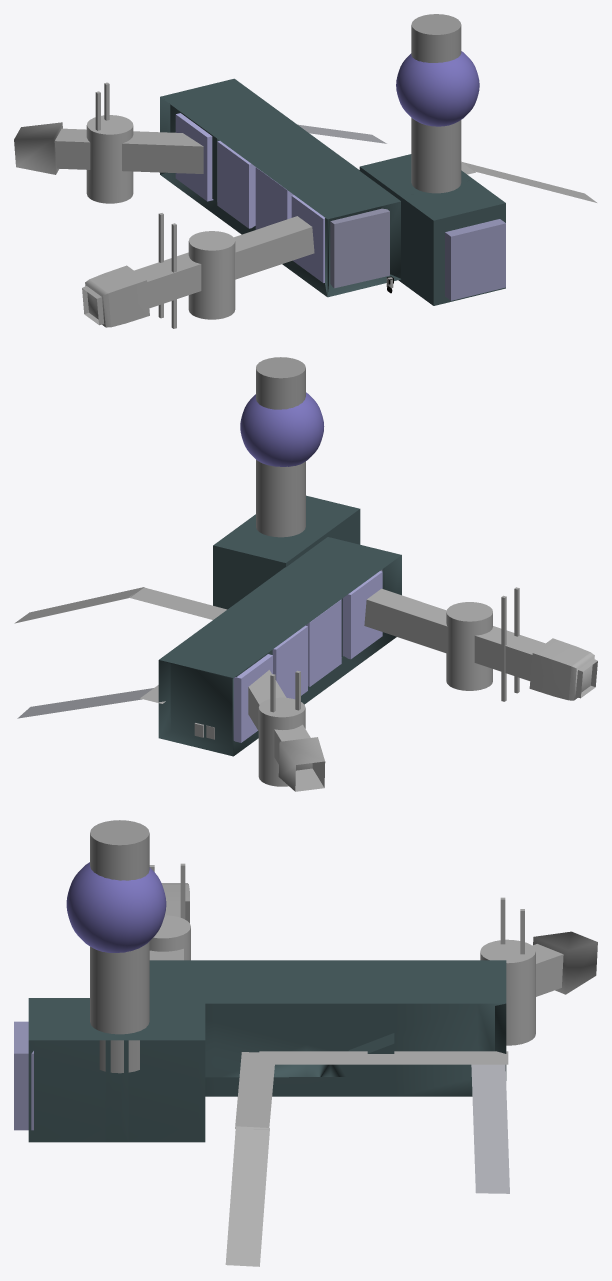
File: airport-terminal.obj
3 views of the same model, one above another, from view 1: azimuth 30°, elevation 25°; view 2: azimuth 150°, elevation 25°; view 3: azimuth 270°, elevation 25° (orthographic). The views are drawn at different scales.
Visible parts, largest first — view 1: Box, Box3, Box12, Box2, Cylinder2, Sphere, Box16, Box15, Cylinder1, Cylinder, Box8, Box1 (+6 smaller); view 2: Box, Box3, Cylinder2, Box1, Sphere, Box2, Cylinder1, Cylinder, Box9, Box11, Box12, Box8 (+5 smaller); view 3: Box, Box1, Box12, Cylinder2, Sphere, Plane2, Plane3, Cylinder, Box2, Plane, Plane1, Box16 (+2 smaller).
Boxes of the visible parts, x1,y1,x2,y2 form: Box: (160, 78, 400, 297); Box3: (82, 216, 314, 327); Box12: (393, 179, 505, 305); Box2: (14, 122, 203, 174); Cylinder2: (411, 14, 461, 193); Sphere: (396, 51, 479, 126); Box16: (445, 219, 505, 300); Box15: (330, 208, 389, 288); Cylinder1: (188, 231, 235, 319); Cylinder: (86, 115, 133, 203); Box8: (217, 141, 255, 228); Box1: (359, 154, 473, 281); Box: (158, 537, 401, 756); Box3: (364, 588, 597, 700); Cylinder2: (256, 357, 305, 537); Box1: (213, 514, 327, 609); Sphere: (240, 392, 324, 466); Box2: (248, 670, 325, 791); Cylinder1: (446, 602, 492, 690); Cylinder: (258, 697, 305, 786); Box9: (306, 599, 341, 686); Box11: (342, 571, 382, 659); Box12: (255, 495, 360, 544); Box8: (272, 625, 307, 699); Box: (149, 960, 506, 1096); Box1: (105, 998, 205, 1142); Box12: (28, 998, 128, 1142); Cylinder2: (90, 820, 149, 1073); Sphere: (66, 862, 166, 952); Plane2: (225, 1126, 269, 1266); Plane3: (471, 1064, 509, 1193); Cylinder: (480, 939, 535, 1045); Box2: (532, 931, 597, 996); Plane: (259, 1051, 508, 1064); Plane1: (235, 1052, 275, 1129); Box16: (14, 1021, 33, 1130).
Size of the model in its own units: 7.39 by 3.46 by 5.85.
